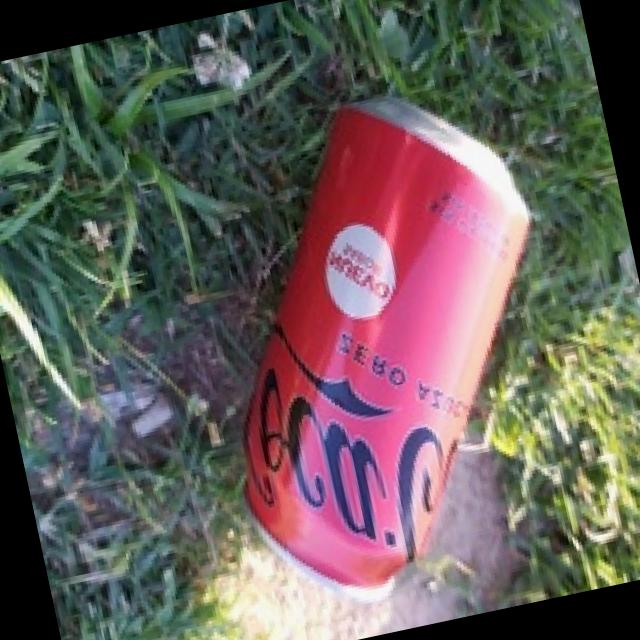can: (166, 64, 605, 625)
